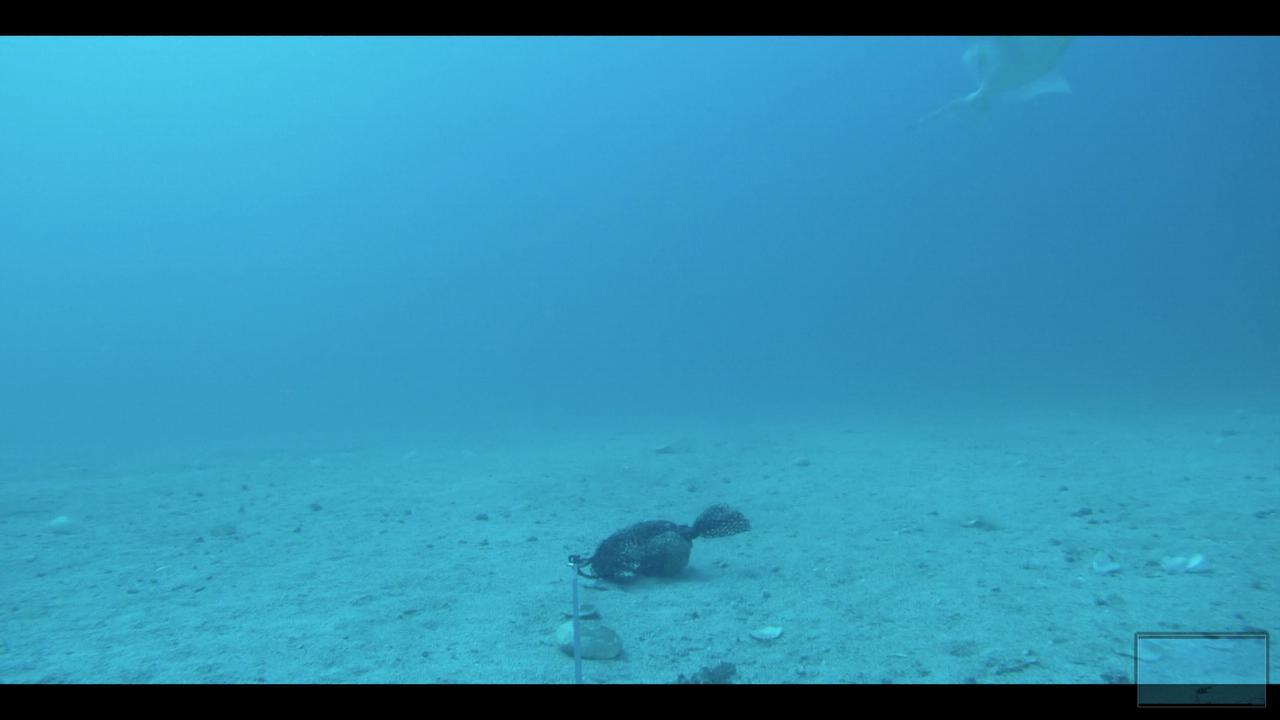balistes: (919, 35, 1076, 148)
